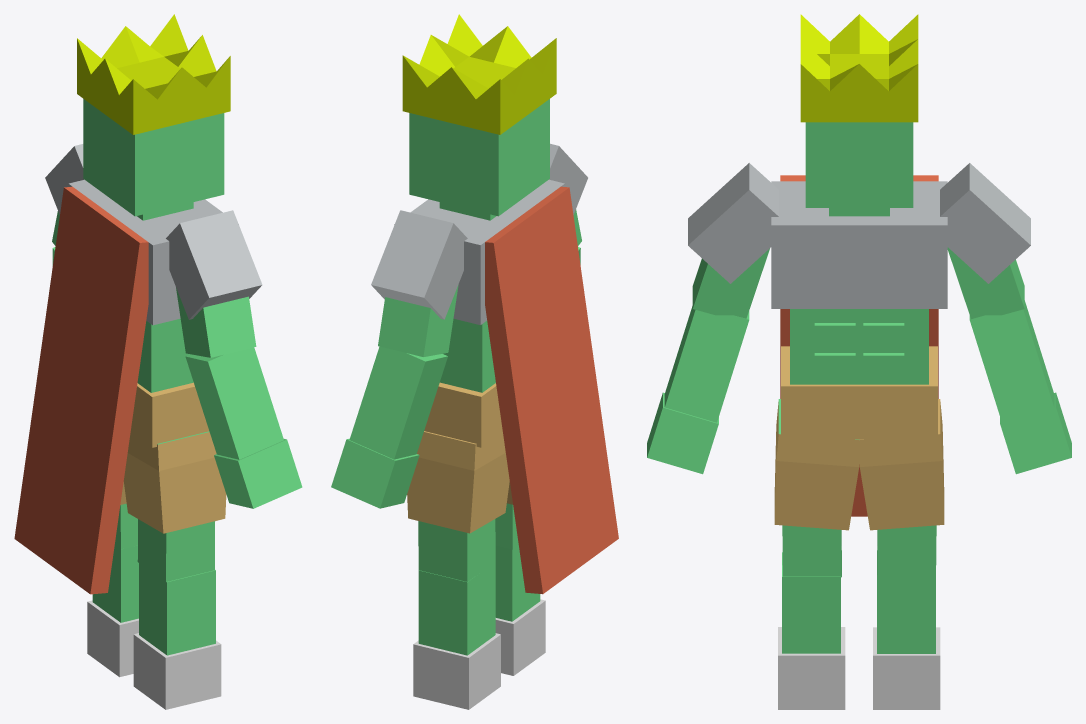
Rendered from king_goblin.fbx.
The picture shows the model from 3 angles, left to right: view 1: azimuth 30°, elevation 25°; view 2: azimuth 150°, elevation 25°; view 3: azimuth 270°, elevation 25°; orthographic projection. The views are drawn at different scales.
Parts seen in each view (by area): view 1: Cube.261, Cube.262, Cube.241, Cube.249, Cube.257, Cube.263, Cube.254, Cube.260, Cube.256, Cube.253, Cube.243, Cube.255 (+7 smaller); view 2: Cube.261, Cube.262, Cube.241, Cube.247, Cube.257, Cube.263, Cube.245, Cube.259, Cube.250, Cube.252, Cube.243, Cube.251 (+7 smaller); view 3: Cube.243, Cube.241, Cube.247, Cube.249, Cube.246, Cube.257, Cube.259, Cube.260, Cube.245, Cube.254, Cube.242, Cube.240 (+9 smaller).
Boxes of the visible parts, x1,y1,x2,y2 form: Cube.261: (46, 186, 148, 371); Cube.262: (27, 316, 138, 500); Cube.241: (77, 14, 230, 134); Cube.249: (123, 431, 226, 582); Cube.257: (83, 99, 224, 216); Cube.263: (14, 446, 120, 594); Cube.254: (185, 347, 283, 459); Cube.260: (166, 210, 262, 319); Cube.256: (139, 563, 215, 655); Cube.253: (133, 633, 221, 709); Cube.243: (68, 179, 238, 325); Cube.255: (214, 439, 302, 508); Cube.261: (485, 186, 587, 371); Cube.262: (494, 316, 605, 500); Cube.241: (402, 14, 556, 134); Cube.247: (407, 431, 509, 581); Cube.257: (409, 99, 549, 216); Cube.263: (512, 445, 618, 594); Cube.245: (349, 346, 447, 459); Cube.259: (371, 210, 467, 319); Cube.250: (418, 562, 495, 655); Cube.252: (413, 633, 500, 709); Cube.243: (394, 179, 564, 324); Cube.251: (331, 438, 419, 508); Cube.243: (771, 181, 947, 308); Cube.241: (800, 14, 918, 122); Cube.247: (857, 399, 944, 577); Cube.249: (774, 399, 859, 577); Cube.246: (781, 346, 937, 439); Cube.257: (805, 122, 913, 207); Cube.259: (940, 163, 1030, 283); Cube.260: (688, 163, 778, 283); Cube.245: (969, 300, 1054, 422); Cube.254: (664, 306, 749, 422); Cube.242: (790, 309, 928, 384); Cube.240: (814, 323, 904, 382).
Size of the model in its own units: 232 by 922 by 540.
